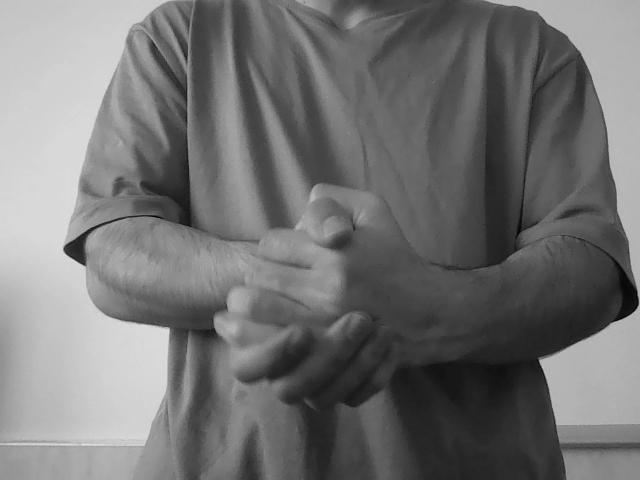friend: (212, 186, 434, 396)
